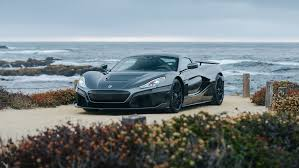car: (73, 52, 230, 116)
